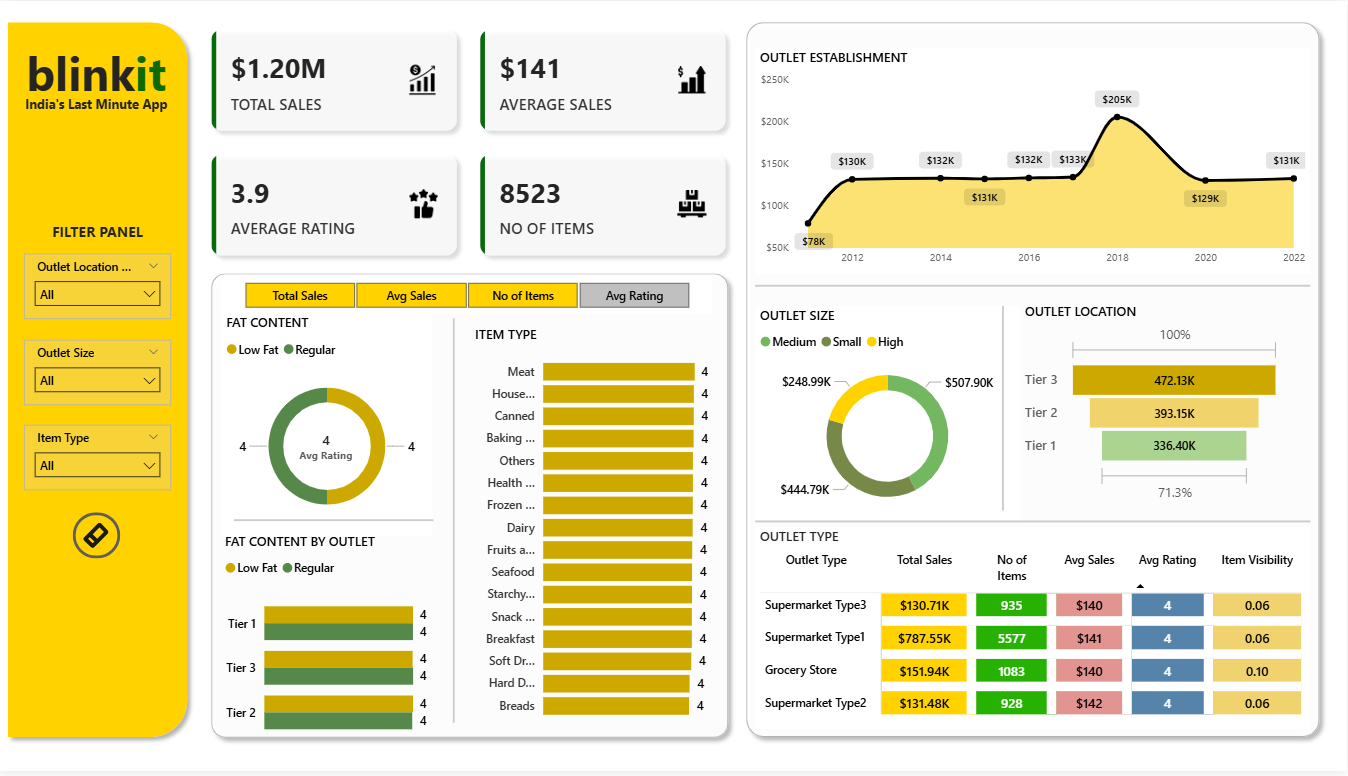

Layout of this report page (visuals, bound fields, positions):
{"tool":"powerbi","page":{"name":"Page 1","canvas":[1400,800],"ordinal":0},"visuals":[{"type":"shape","box":[0,13.6,204.5,760.7],"z":0},{"type":"textbox","box":[9.5,36.8,184.1,80.4],"z":1000},{"type":"textbox","box":[9.5,94.1,184.1,32.7],"z":2000},{"type":"cardVisual","fields":{"Data":["BlinkIT Grocery Data.Total Sales","BlinkIT Grocery Data.Avg Sales","BlinkIT Grocery Data.Avg Rating","BlinkIT Grocery Data.No of Items"]},"box":[204.5,13.6,569.9,269.9],"z":3000},{"type":"shape","box":[211.3,274,554.9,500.3],"z":4000},{"type":"donutChart","title":"FAT CONTENT","fields":{"Y":["BlinkIT Grocery Data.Avg Rating"],"Category":["BlinkIT Grocery Data.Item Fat Content"]},"box":[231.8,324.5,219.5,230.4],"z":5000},{"type":"slicer","fields":{"Values":["Metrics.Metrics"]},"box":[230.4,286.3,511.3,39.5],"z":6000},{"type":"cardVisual","fields":{"Data":["BlinkIT Grocery Data.Avg Rating"]},"box":[289,429.5,100.9,60],"z":7000},{"type":"clusteredBarChart","title":"FAT CONTENT BY OUTLET","fields":{"Y":["BlinkIT Grocery Data.Avg Rating"],"Category":["BlinkIT Grocery Data.Outlet Location Type"],"Series":["BlinkIT Grocery Data.Item Fat Content"]},"box":[230.4,552.2,219.5,230.4],"z":8000},{"type":"shape","box":[244,503.1,207.2,73.6],"z":9000},{"type":"shape","box":[451.3,329.9,43.6,419.9],"z":10000},{"type":"barChart","title":"ITEM TYPE","fields":{"Y":["BlinkIT Grocery Data.Avg Rating"],"Category":["BlinkIT Grocery Data.Item Type"]},"box":[489.4,336.7,252.2,419.9],"z":11000},{"type":"shape","box":[767.6,13.6,613.5,760.7],"z":12000},{"type":"lineChart","title":"OUTLET ESTABLISHMENT","fields":{"Y":["BlinkIT Grocery Data.Total Sales"],"Category":["BlinkIT Grocery Data.Outlet Establishment Year"]},"box":[785.3,49.1,576.7,234.5],"z":13000},{"type":"shape","box":[785.3,274,576.7,43.6],"z":14000},{"type":"donutChart","title":"OUTLET SIZE","fields":{"Y":["BlinkIT Grocery Data.Total Sales"],"Category":["BlinkIT Grocery Data.Outlet Size"]},"box":[785.3,316.3,275,225],"z":15000},{"type":"shape","box":[1011.6,316.3,62.7,212.7],"z":16000},{"type":"funnel","title":"OUTLET LOCATION","fields":{"Y":["Sum(BlinkIT Grocery Data.Sales)"],"Category":["BlinkIT Grocery Data.Outlet Location Type"]},"box":[1060.7,313.6,275.4,212.7],"z":17000},{"type":"shape","box":[785.3,504.4,576.7,73.6],"z":18000},{"type":"pivotTable","title":"OUTLET TYPE","fields":{"Rows":["BlinkIT Grocery Data.Outlet Type"],"Values":["BlinkIT Grocery Data.Total Sales","BlinkIT Grocery Data.No of Items","BlinkIT Grocery Data.Avg Sales","BlinkIT Grocery Data.Avg Rating","Avg(BlinkIT Grocery Data.Item Visibility)"]},"box":[785.3,546.7,576.7,210],"z":19000},{"type":"slicer","fields":{"Values":["BlinkIT Grocery Data.Outlet Location Type"]},"box":[25.9,261.8,152.7,68.2],"z":20000},{"type":"slicer","fields":{"Values":["BlinkIT Grocery Data.Outlet Size"]},"box":[25.9,351.7,152.7,68.2],"z":21000},{"type":"slicer","fields":{"Values":["BlinkIT Grocery Data.Item Type"]},"box":[25.9,440.4,152.7,68.2],"z":21001},{"type":"textbox","box":[10.9,225,184.1,36.8],"z":21002},{"type":"actionButton","box":[76.6,531.2,49.4,48.1],"z":21003}]}

Visuals, with their boxes in screenshot pixels (x1, y1, x2, y2), scaled from the page's 1400x800 canvas onto the 1348x776 screenshot:
shape: (x1=0, y1=13, x2=197, y2=751)
textbox: (x1=9, y1=36, x2=186, y2=114)
textbox: (x1=9, y1=91, x2=186, y2=123)
cardVisual - BlinkIT Grocery Data.Total Sales x BlinkIT Grocery Data.Avg Sales: (x1=197, y1=13, x2=746, y2=275)
shape: (x1=203, y1=266, x2=738, y2=751)
"FAT CONTENT" donutChart: (x1=223, y1=315, x2=435, y2=538)
slicer - Metrics.Metrics: (x1=222, y1=278, x2=714, y2=316)
cardVisual - BlinkIT Grocery Data.Avg Rating: (x1=278, y1=417, x2=375, y2=475)
"FAT CONTENT BY OUTLET" clusteredBarChart: (x1=222, y1=536, x2=433, y2=759)
shape: (x1=235, y1=488, x2=434, y2=559)
shape: (x1=435, y1=320, x2=477, y2=727)
"ITEM TYPE" barChart: (x1=471, y1=327, x2=714, y2=734)
shape: (x1=739, y1=13, x2=1330, y2=751)
"OUTLET ESTABLISHMENT" lineChart: (x1=756, y1=48, x2=1311, y2=275)
shape: (x1=756, y1=266, x2=1311, y2=308)
"OUTLET SIZE" donutChart: (x1=756, y1=307, x2=1021, y2=525)
shape: (x1=974, y1=307, x2=1034, y2=513)
"OUTLET LOCATION" funnel: (x1=1021, y1=304, x2=1286, y2=511)
shape: (x1=756, y1=489, x2=1311, y2=561)
"OUTLET TYPE" pivotTable: (x1=756, y1=530, x2=1311, y2=734)
slicer - BlinkIT Grocery Data.Outlet Location Type: (x1=25, y1=254, x2=172, y2=320)
slicer - BlinkIT Grocery Data.Outlet Size: (x1=25, y1=341, x2=172, y2=407)
slicer - BlinkIT Grocery Data.Item Type: (x1=25, y1=427, x2=172, y2=493)
textbox: (x1=10, y1=218, x2=188, y2=254)
actionButton: (x1=74, y1=515, x2=121, y2=562)
